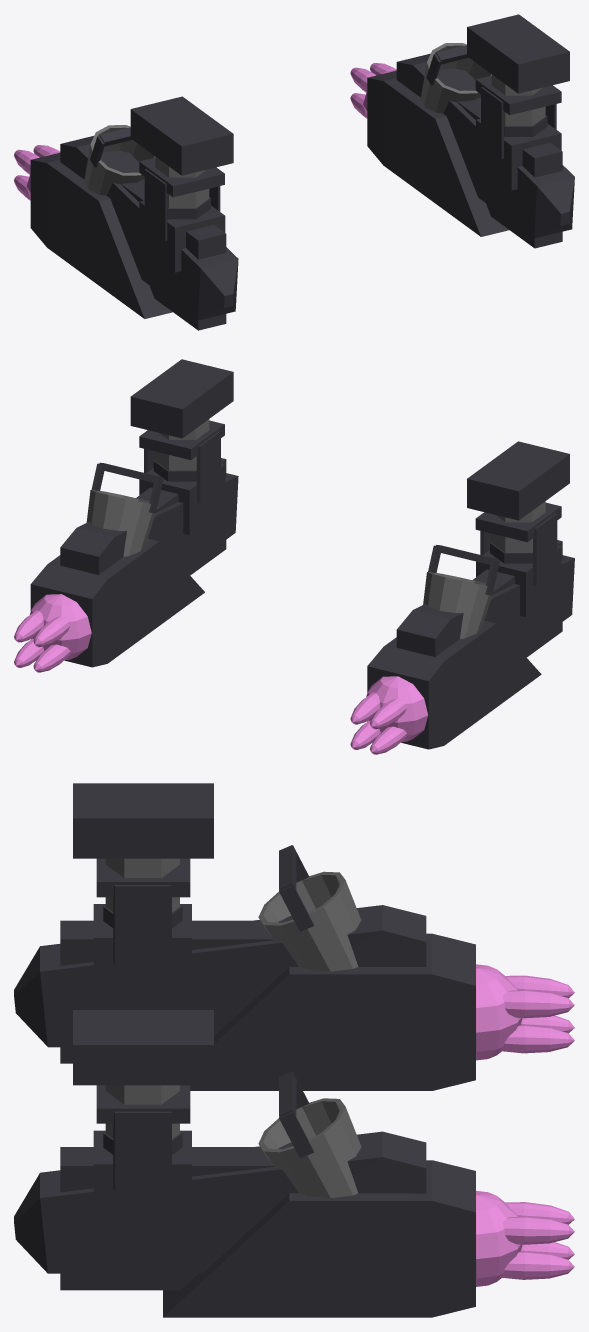
The model's file is Uddercannon.fbx.
3 renders of one model, top to bottom at view 1: azimuth 30°, elevation 25°; view 2: azimuth 150°, elevation 25°; view 3: azimuth 270°, elevation 25°, orthographic. The views are drawn at different scales.
Parts seen in each view (by area): view 1: Uddercannon; view 2: Uddercannon; view 3: Uddercannon.
Part boxes in pixels (x1,y1,x2,y2): Uddercannon: (14, 14, 574, 330); Uddercannon: (14, 359, 574, 754); Uddercannon: (14, 783, 574, 1317).
Size of the model in its own units: 355 by 167 by 314.
